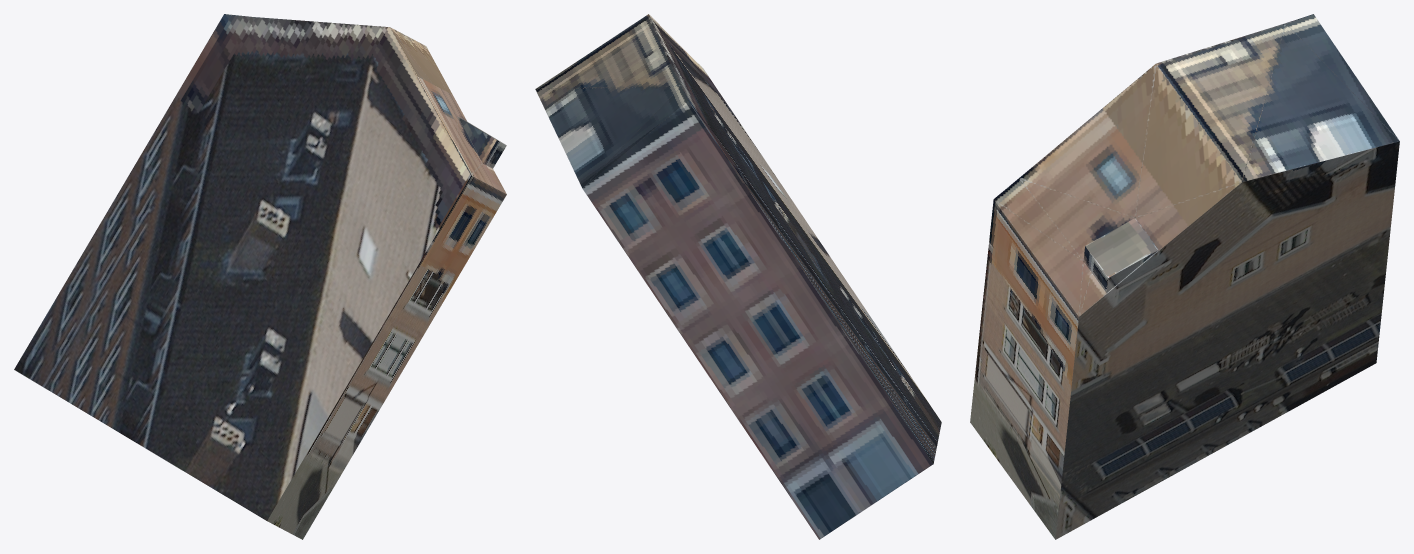
3 views of the same model, side by side, from view 1: azimuth 30°, elevation 25°; view 2: azimuth 150°, elevation 25°; view 3: azimuth 270°, elevation 25° (orthographic). The views are drawn at different scales.
Parts seen in each view (by area): view 1: BAG_0599100000650060 (×3); view 2: BAG_0599100000650060 (×4); view 3: BAG_0599100000650060 (×4).
Boxes of the visible parts, left/top/right/bottom form: BAG_0599100000650060 (×3): left=14, top=14, right=506, bottom=539; BAG_0599100000650060 (×4): left=535, top=14, right=941, bottom=539; BAG_0599100000650060 (×4): left=970, top=14, right=1399, bottom=539.
Bounding box in the file's own units: 18.96 × 19.52 × 13.75.
1 material, 1 textured.
